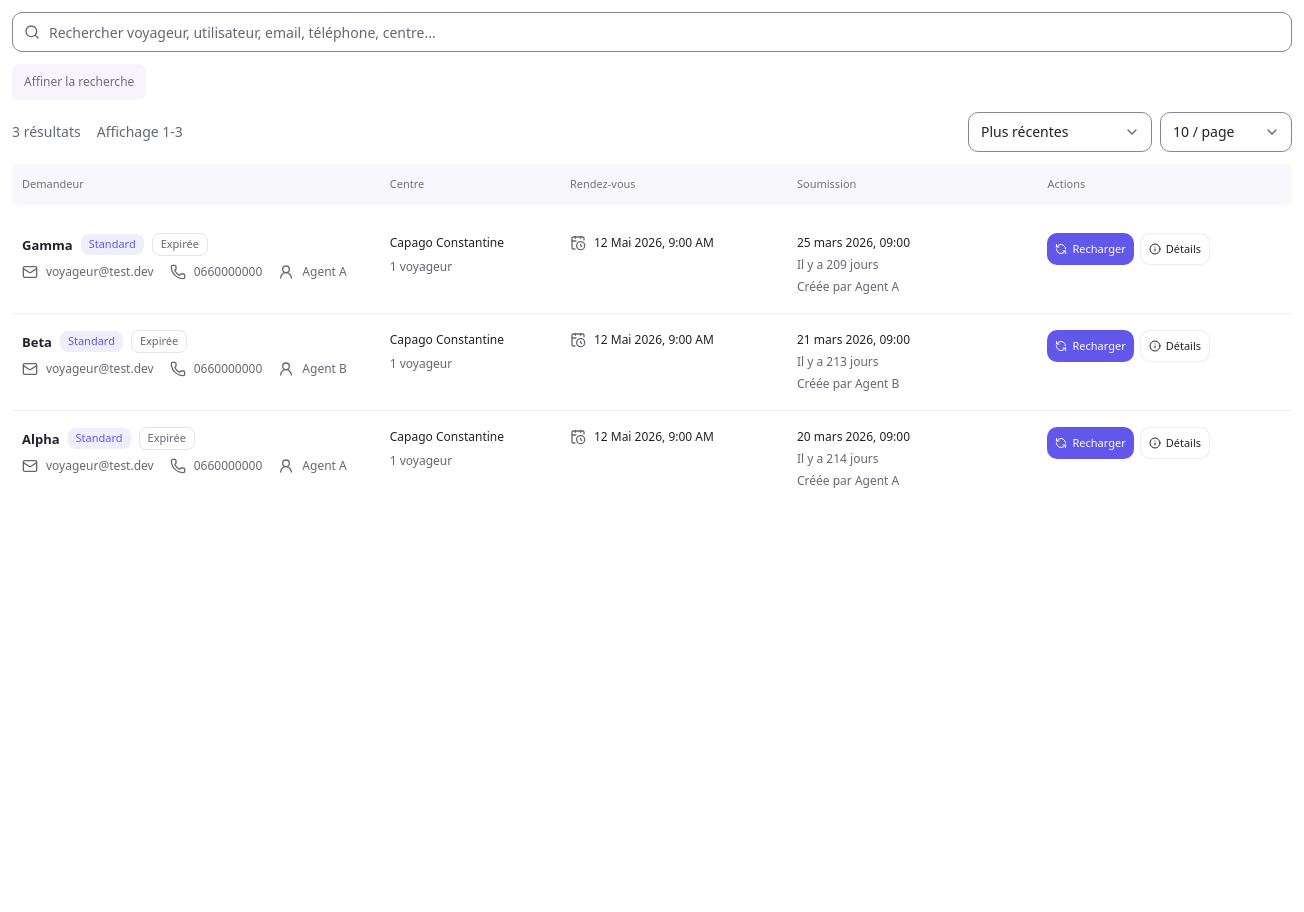
Scenario: RequestRecordList › filters by user and submission date
The width and height of the screenshot is (1304, 912).
Click the heading "Affiner la recherche": (79,82) [12,64,146,100]
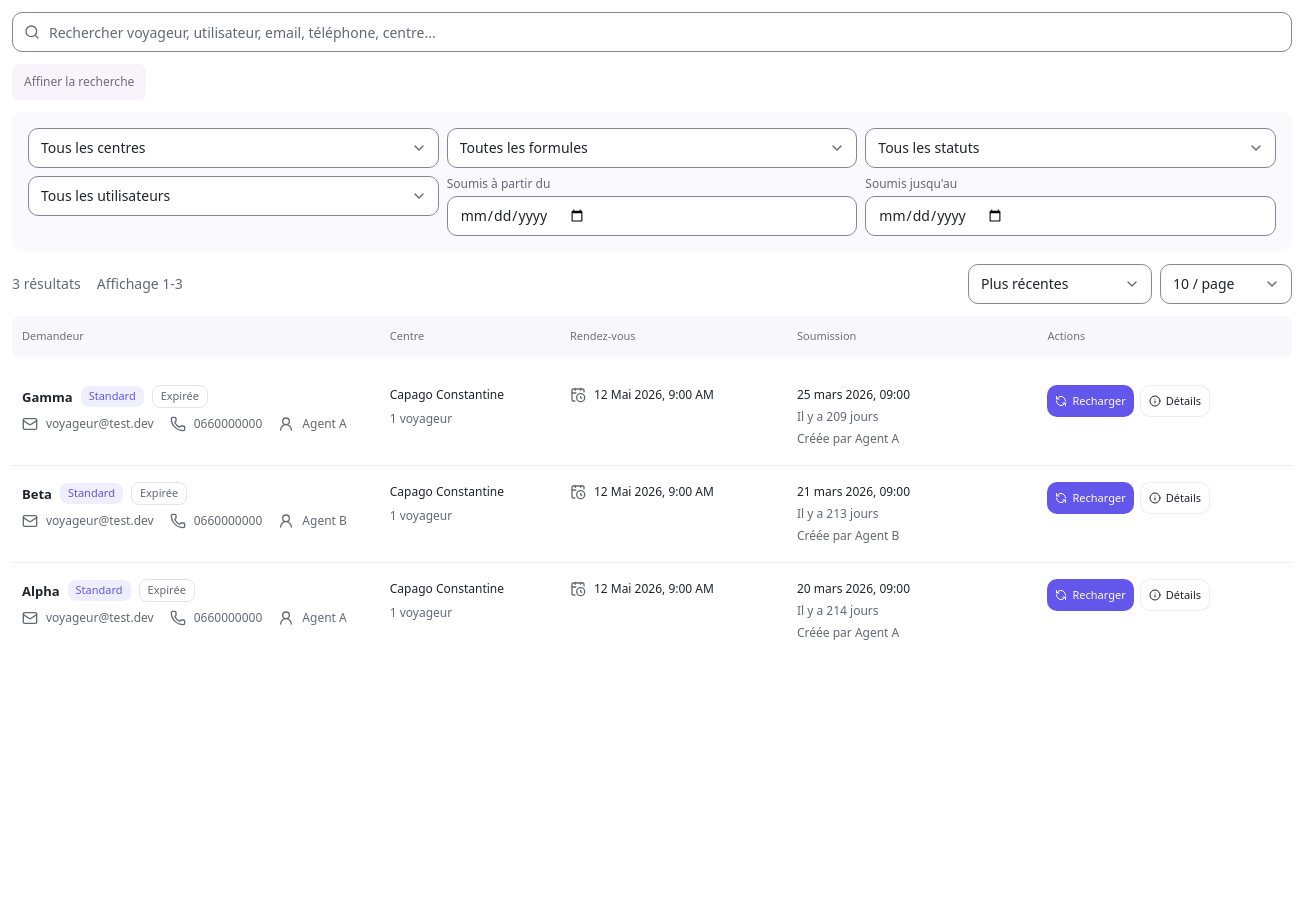
Select "Agent B" in the dropdown named "filtrer par utilisateur": (233,196) [28,176,439,216]
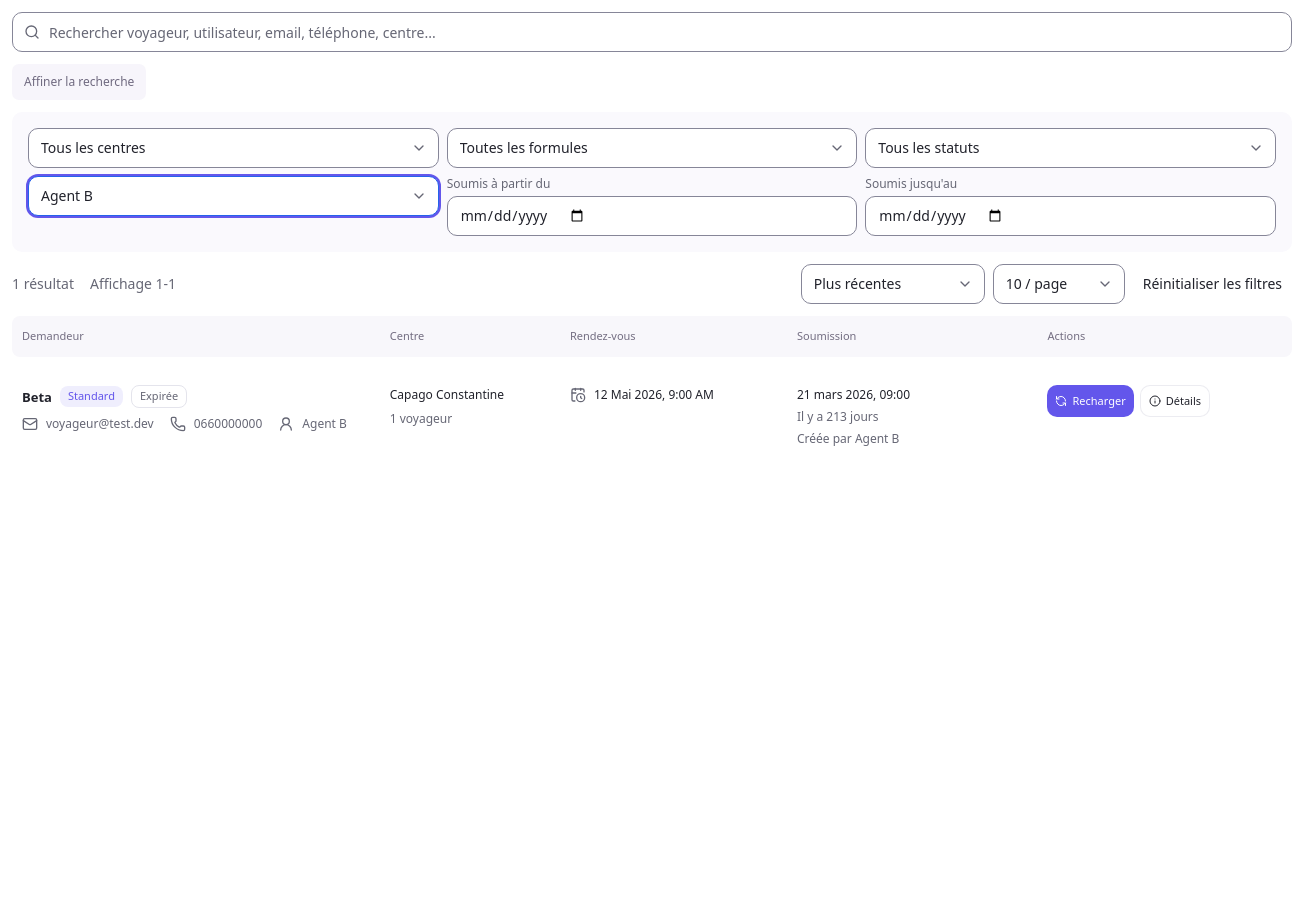
Check: the text "Beta" is shown, box [22,384,52,408]
Check: the text "Alpha" is gone
Check: the text "Gamma" is gone
Click the button "Réinitialiser les filtres": (1212,284) [1133,268,1292,300]
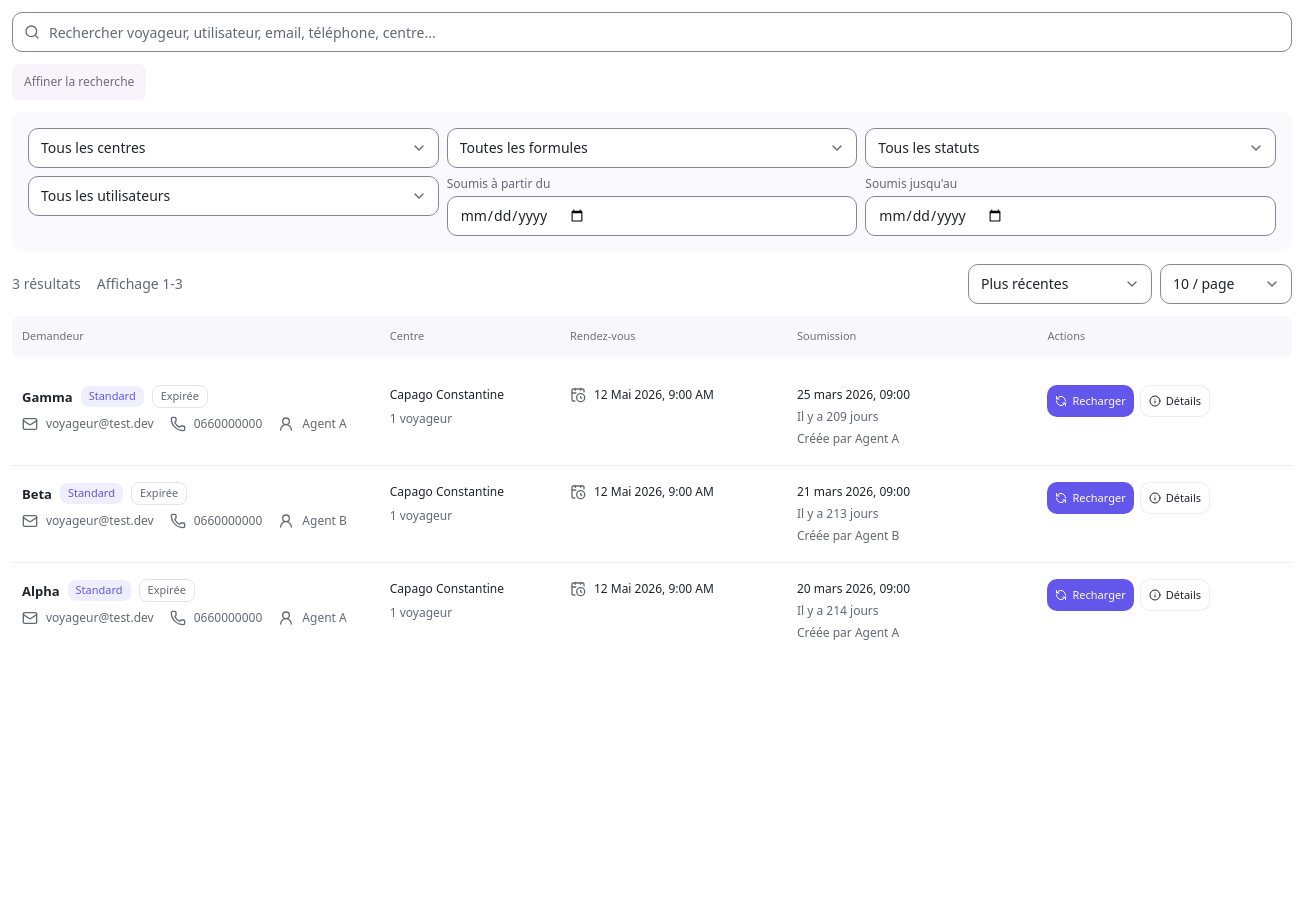
In the date field named "date de soumission a partir de": (652,216) [447,196,857,236], type "2026-03-21"
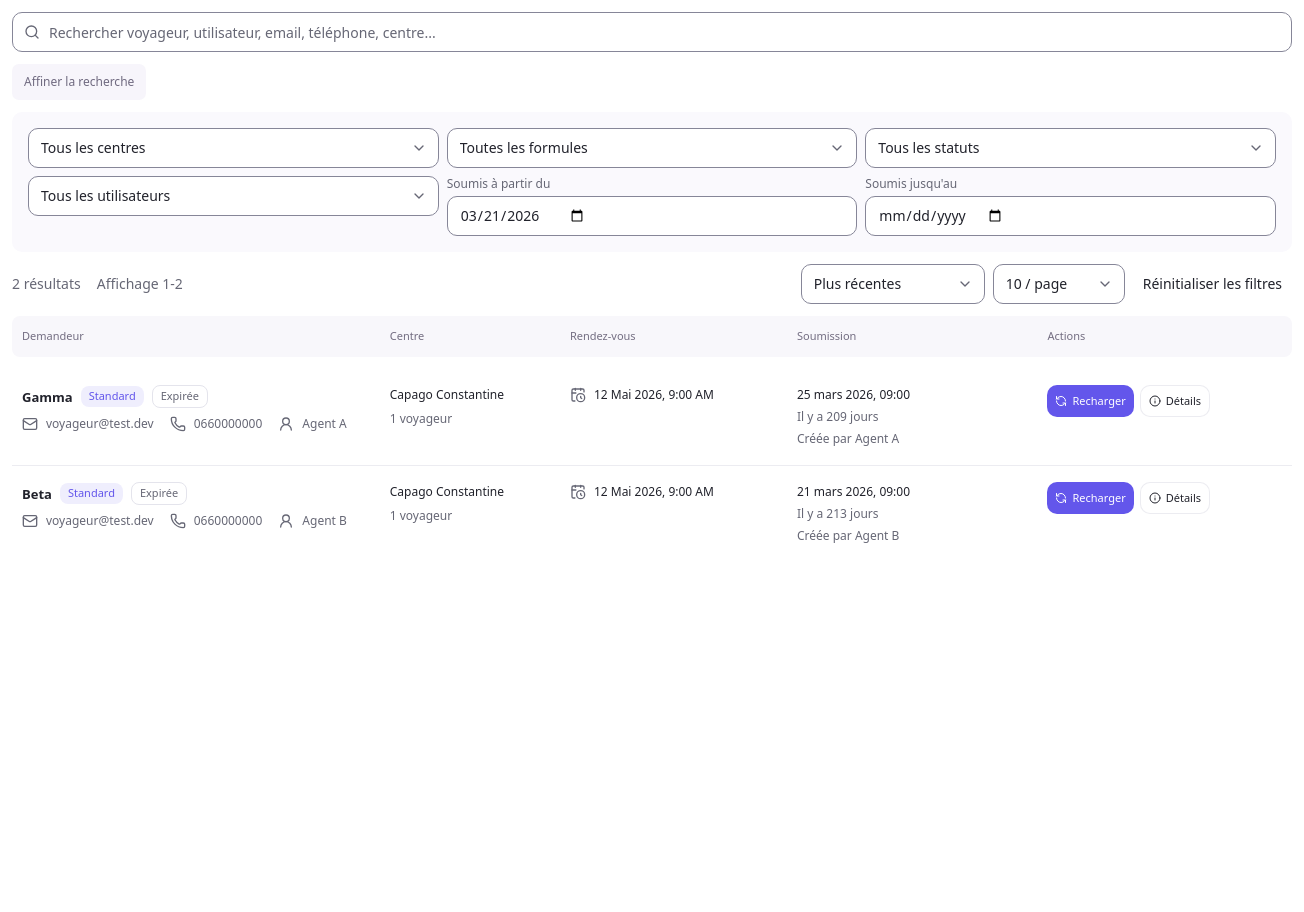
In the date field named "date de soumission jusqu'a": (1071,216) [865,196,1276,236], type "2026-03-24"
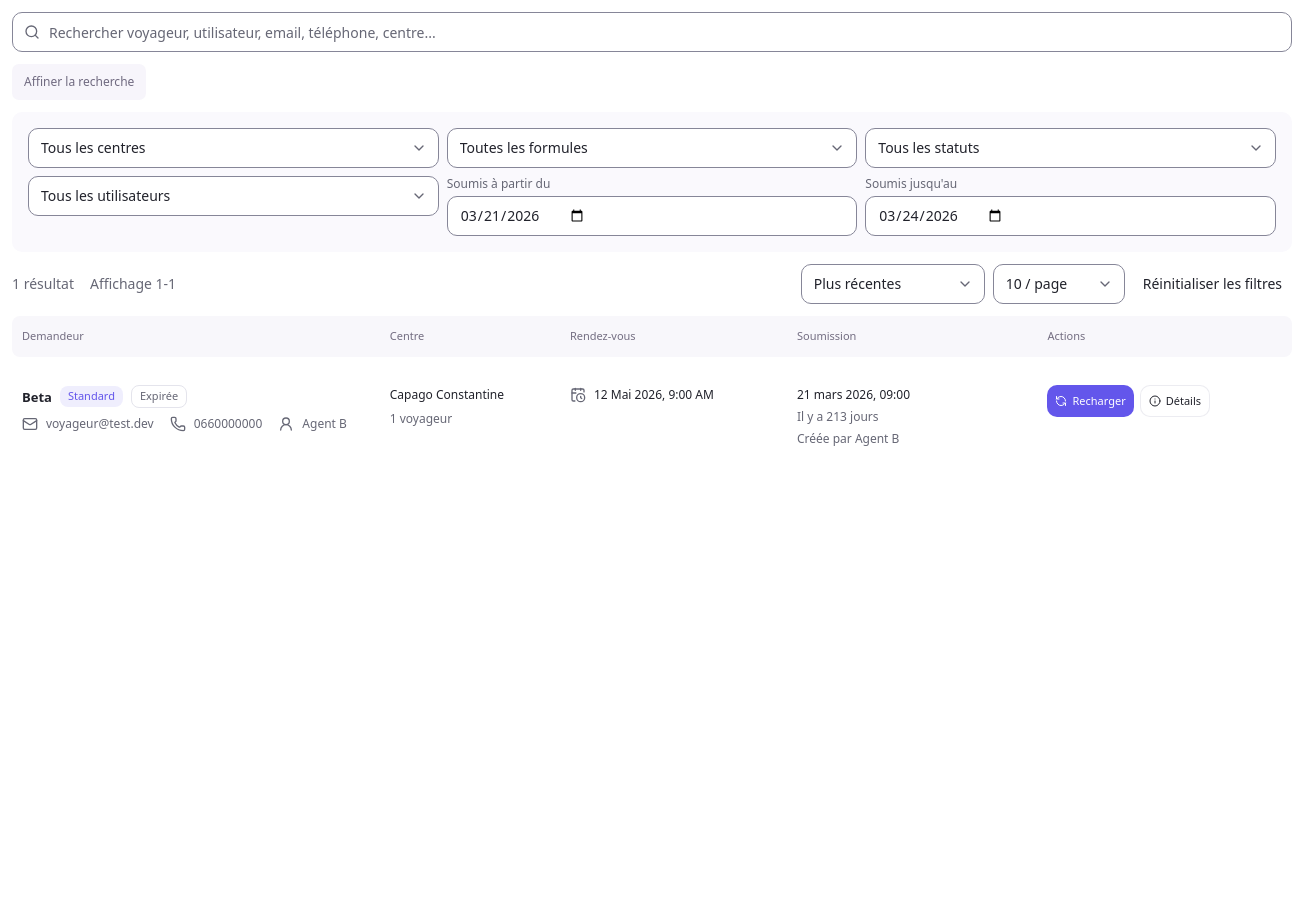
Check: the text "Beta" is shown, box [22,384,52,408]
Check: the text "Gamma" is gone
